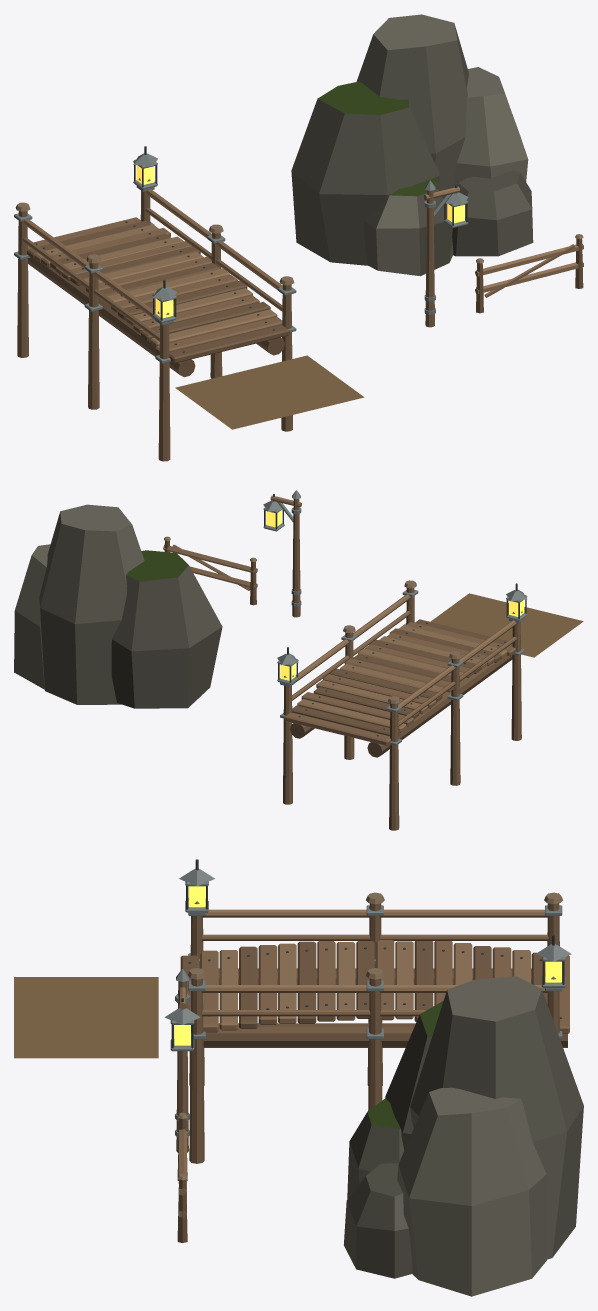
3 renders of one model, top to bottom at view 1: azimuth 30°, elevation 25°; view 2: azimuth 150°, elevation 25°; view 3: azimuth 270°, elevation 25°, orthographic. The views are drawn at different scales.
Parts seen in each view (by area): view 1: Rootbound Hall · evaluated preview mesh; view 2: Rootbound Hall · evaluated preview mesh; view 3: Rootbound Hall · evaluated preview mesh.
Part boxes in pixels (x1,y1,x2,y2): Rootbound Hall · evaluated preview mesh: (14,14,583,461); Rootbound Hall · evaluated preview mesh: (14,490,583,830); Rootbound Hall · evaluated preview mesh: (14,859,583,1296).
Bounding box in the file's own units: 14.47 × 7.29 × 11.83.
